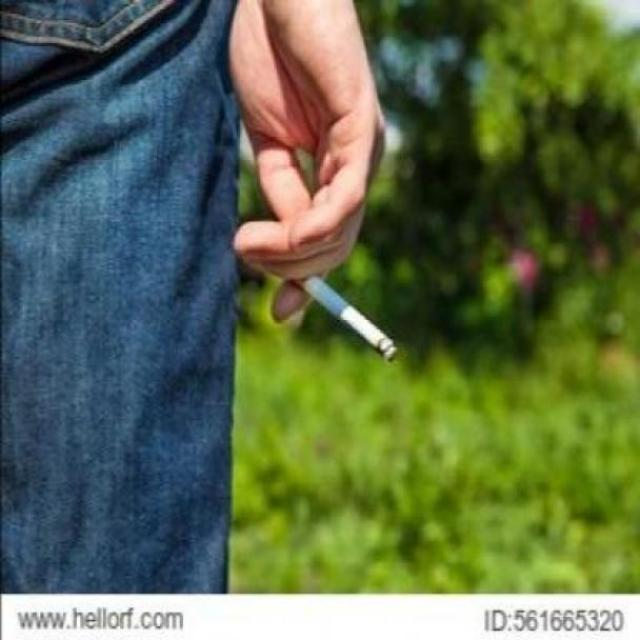rokok: (288, 264, 400, 366)
